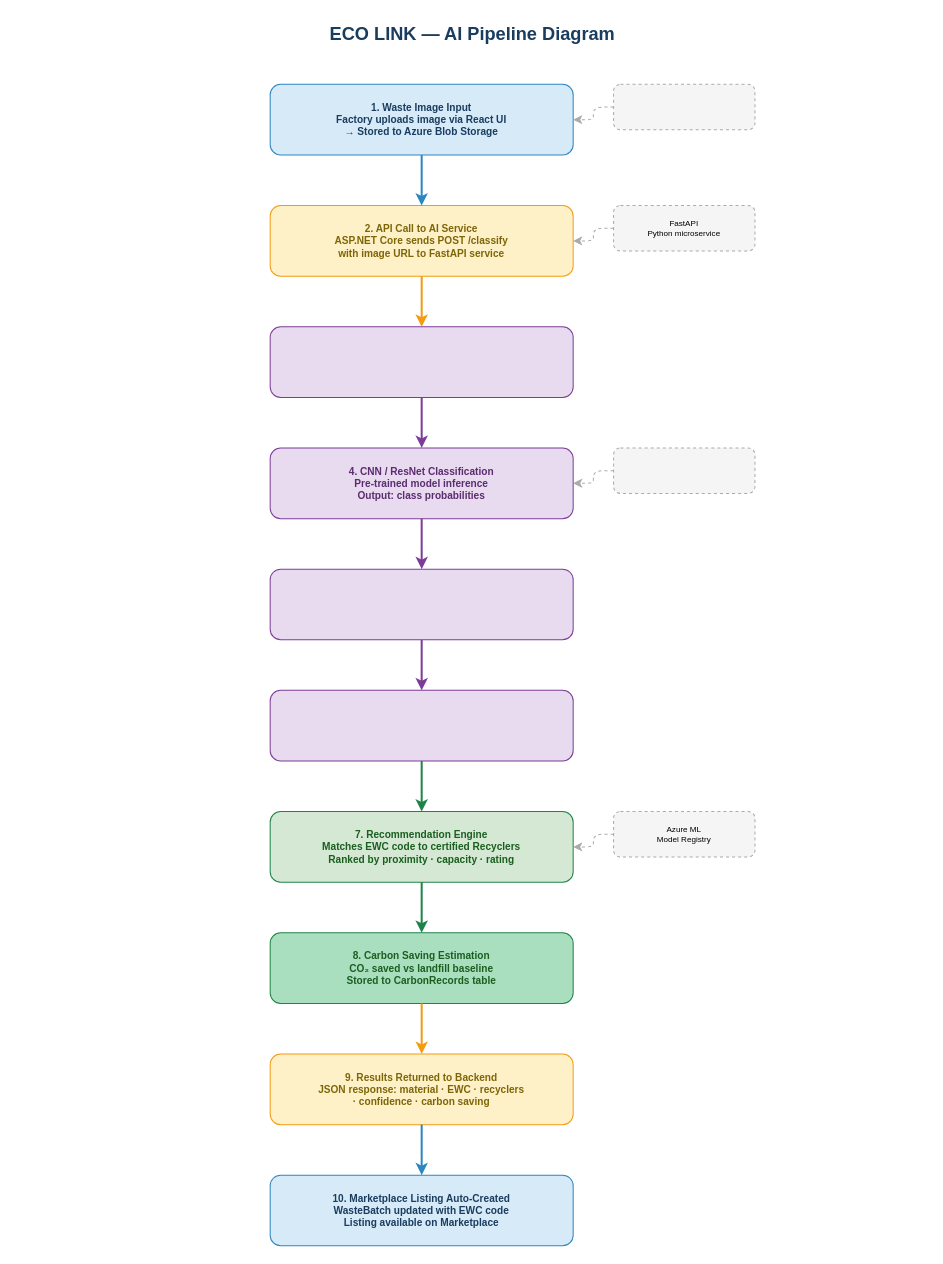
The diagram is 943 pixels wide and 1264 high, and some of its shapes have lost their labels. The centre of each missing label's shape, as x and y in pixels:
3. Image Preprocessing Resize · Normalize · Augment OpenCV / PIL Pipeline: point 421,361
5. Material Prediction Top predicted material type Confidence Score (%): point 421,604
6. EWC Code Prediction European Waste Catalogue code mapped from material type: point 421,725
Azure Blob Storage Stores images: point 684,106
ResNet-50 / EfficientNet PyTorch / TensorFlow: point 684,470
